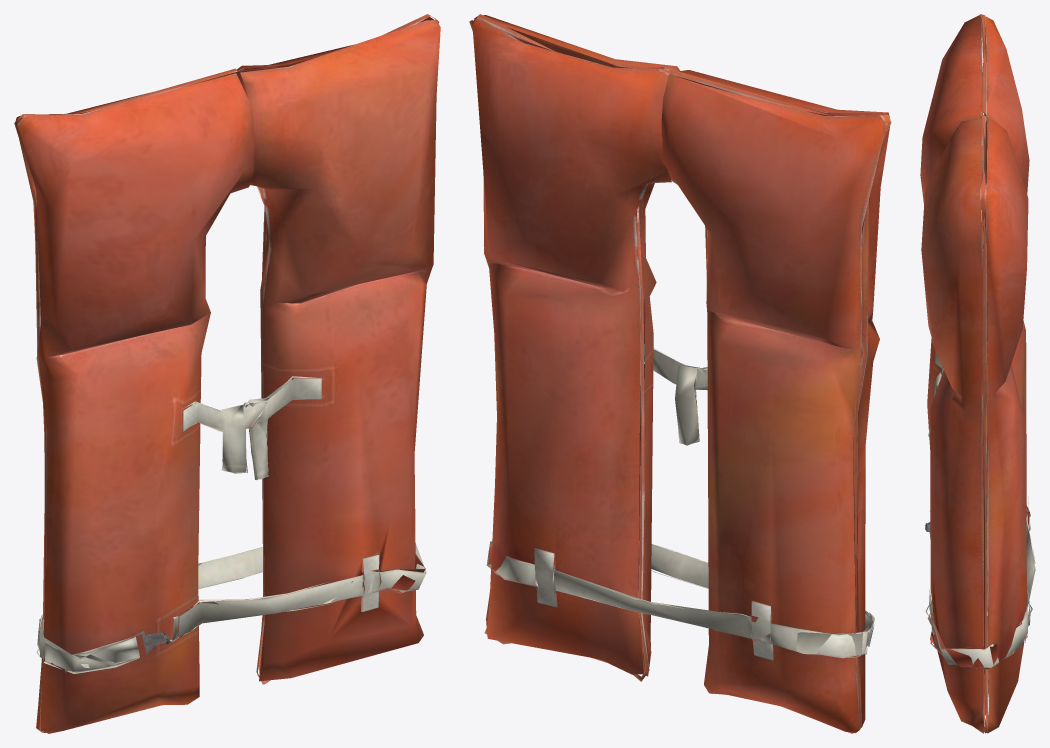
Rendered from life_jacket_1k.gltf.lod.glb.
3 views of the same model, side by side, from view 1: azimuth 30°, elevation 25°; view 2: azimuth 150°, elevation 25°; view 3: azimuth 270°, elevation 25° (orthographic). The views are drawn at different scales.
Parts seen in each view (by area): view 1: life_jacket; view 2: life_jacket; view 3: life_jacket.
Boxes of the visible parts, x1=… form: life_jacket: x1=14, y1=14, x2=440, y2=733; life_jacket: x1=469, y1=14, x2=891, y2=733; life_jacket: x1=920, y1=14, x2=1035, y2=733.
Size of the model in its own units: 0.6941 by 0.9905 by 0.1856.
Materials: 1 (1 with a texture image).
